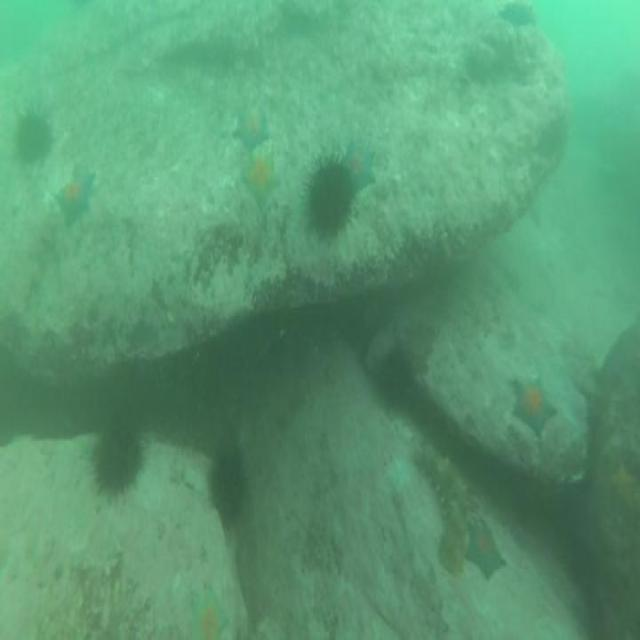echinus: (300, 153, 358, 245), (90, 416, 149, 504), (204, 446, 248, 526), (380, 338, 416, 421), (10, 103, 55, 166)
holothurian: (411, 442, 469, 577)
starfish: (506, 370, 559, 442), (464, 512, 509, 585), (240, 147, 283, 215), (338, 138, 380, 199), (605, 453, 640, 520), (54, 172, 95, 229), (229, 98, 271, 152), (188, 586, 228, 640)
